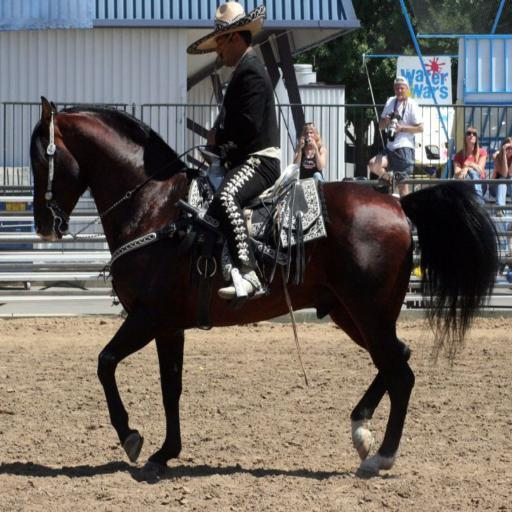horse: (28, 93, 504, 479)
